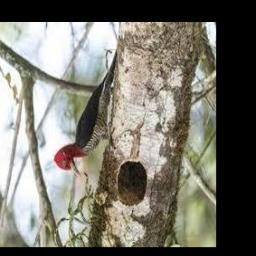Woodpecker: (54, 50, 118, 180)
